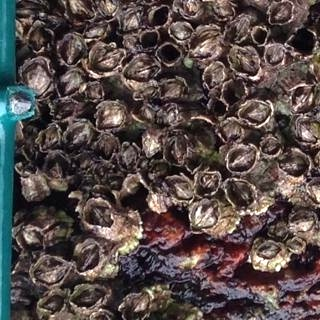Barnacle: (190, 199, 222, 234), (87, 47, 124, 77), (188, 25, 220, 59), (22, 61, 51, 94), (124, 55, 158, 82), (228, 144, 260, 172), (35, 256, 67, 284), (242, 101, 276, 127), (290, 86, 319, 116), (232, 45, 259, 77), (56, 71, 85, 99), (75, 243, 102, 273), (165, 174, 193, 202), (124, 291, 152, 319), (97, 104, 126, 131), (59, 35, 85, 65), (228, 179, 254, 208), (66, 123, 94, 149), (85, 202, 113, 228), (118, 9, 145, 35), (282, 151, 308, 177), (120, 142, 142, 172), (47, 155, 71, 182), (28, 24, 51, 52), (253, 240, 281, 263), (227, 17, 251, 43), (74, 287, 103, 308), (292, 209, 315, 235), (40, 126, 61, 153), (20, 226, 44, 249), (65, 0, 94, 19), (144, 132, 163, 161), (271, 2, 294, 25), (97, 136, 118, 161), (168, 23, 193, 43), (206, 65, 225, 91), (196, 174, 219, 195), (43, 293, 66, 314), (298, 121, 318, 145), (162, 100, 180, 126), (266, 44, 287, 66), (97, 0, 121, 19), (261, 136, 282, 157), (160, 79, 182, 99), (84, 22, 108, 40), (220, 122, 241, 142), (212, 0, 234, 19), (87, 82, 104, 102), (17, 160, 37, 177), (287, 236, 306, 253), (137, 86, 157, 100), (181, 0, 199, 15), (140, 107, 155, 123)
